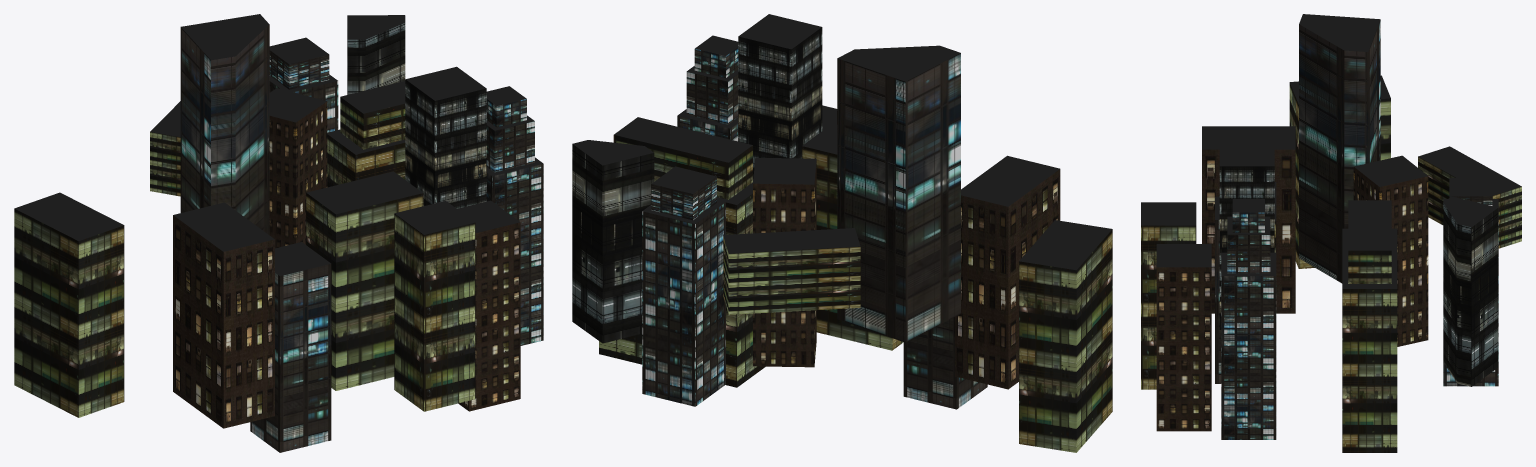
The model's file is Buildings environment.obj.
3 views of the same model, side by side, from view 1: azimuth 30°, elevation 25°; view 2: azimuth 150°, elevation 25°; view 3: azimuth 270°, elevation 25° (orthographic). The views are drawn at different scales.
Parts seen in each view (by area): view 1: Cube.018, Cube.012, Cube.013, Cube, Cube.002, Cube.003, Cube.004, Cube.001, Cube.005, Cube.014, Cube.008, Cube.016 (+2 smaller); view 2: Cube.013, Cube.018, Cube.010, Cube.012, Cube.016, Cube.015, Cube.004, Cube.008, Cube.014, Cube.005, Cube.003, Cube.002; view 3: Cube.013, Cube.008, Cube.005, Cube.001, Cube.016, Cube.014, Cube.012, Cube, Cube.004, Cube.015, Cube.018, Cube.010 (+1 smaller).
Part boxes in pixels (left/top/right/bottom): Cube.018: left=14, top=192, right=124, bottom=417; Cube.012: left=173, top=202, right=274, bottom=428; Cube.013: left=180, top=14, right=269, bottom=234; Cube: left=394, top=201, right=475, bottom=411; Cube.002: left=306, top=171, right=423, bottom=390; Cube.003: left=250, top=242, right=331, bottom=452; Cube.004: left=405, top=66, right=486, bottom=208; Cube.001: left=457, top=200, right=520, bottom=411; Cube.005: left=486, top=86, right=543, bottom=345; Cube.014: left=269, top=88, right=327, bottom=248; Cube.008: left=327, top=81, right=405, bottom=187; Cube.016: left=347, top=15, right=405, bottom=94; Cube.013: left=837, top=45, right=960, bottom=342; Cube.018: left=1019, top=220, right=1112, bottom=452; Cube.010: left=642, top=166, right=725, bottom=406; Cube.012: left=955, top=155, right=1060, bottom=389; Cube.016: left=572, top=140, right=654, bottom=343; Cube.015: left=723, top=228, right=860, bottom=314; Cube.004: left=738, top=14, right=822, bottom=178; Cube.008: left=599, top=117, right=765, bottom=387; Cube.014: left=753, top=157, right=816, bottom=367; Cube.005: left=677, top=35, right=738, bottom=141; Cube.003: left=903, top=317, right=987, bottom=409; Cube.002: left=802, top=123, right=903, bottom=350; Cube.013: left=1299, top=14, right=1380, bottom=283; Cube.008: left=1342, top=200, right=1397, bottom=452; Cube.005: left=1221, top=199, right=1276, bottom=439; Cube.001: left=1156, top=244, right=1211, bottom=431; Cube.016: left=1443, top=196, right=1498, bottom=386; Cube.014: left=1353, top=155, right=1428, bottom=346; Cube.012: left=1202, top=126, right=1295, bottom=313; Cube: left=1141, top=202, right=1196, bottom=389; Cube.004: left=1219, top=143, right=1274, bottom=329; Cube.015: left=1418, top=146, right=1521, bottom=248; Cube.018: left=1289, top=75, right=1390, bottom=268; Cube.010: left=1443, top=178, right=1498, bottom=386.
Size of the model in its own units: 17.62 by 13.48 by 13.81.
